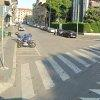crosswalks: (21, 46, 98, 100)
